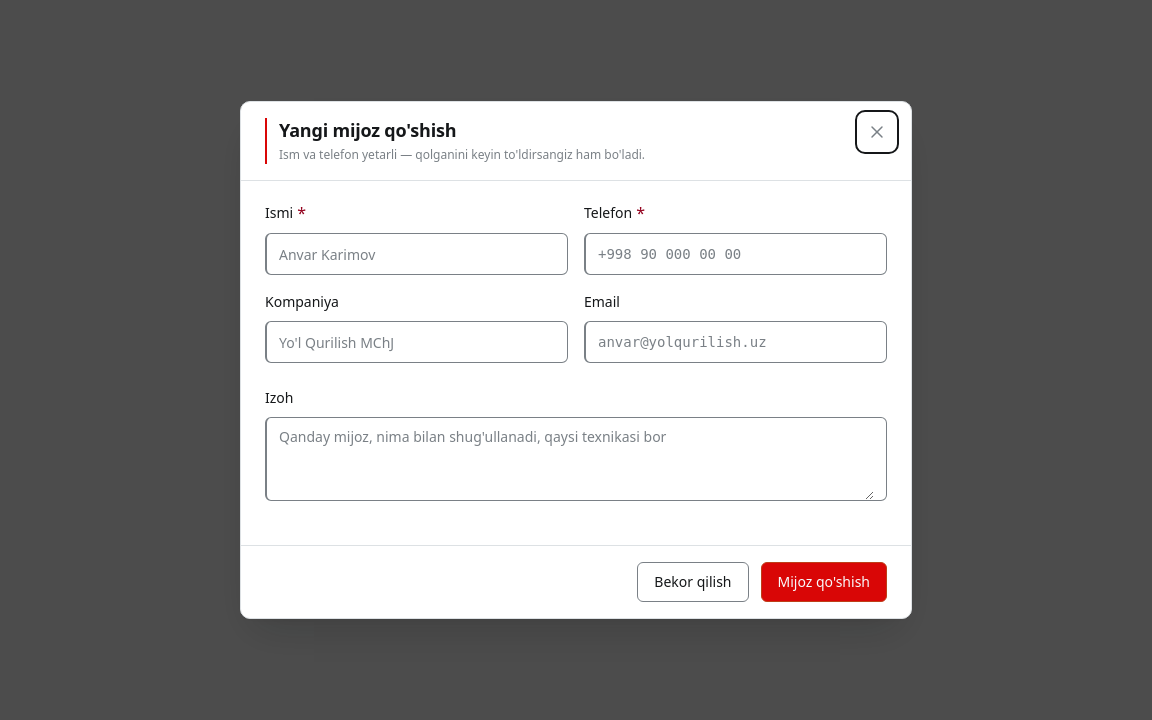
it: CustomerCreateForm › says so when the request never lands
Step 1. Type "Anvar" into the field labelled "Ismi" → (417, 254), box [279, 234, 555, 274]
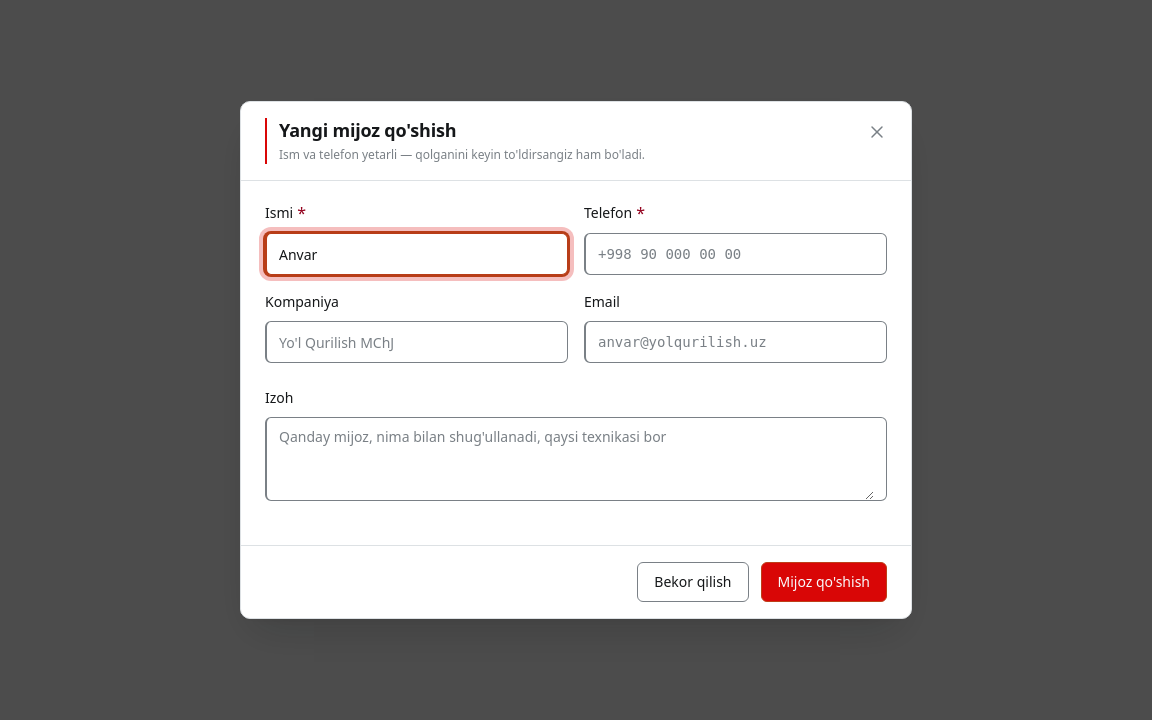
Step 2. Type "+998901234567" into the field labelled "Telefon" → (736, 254), box [598, 234, 874, 274]
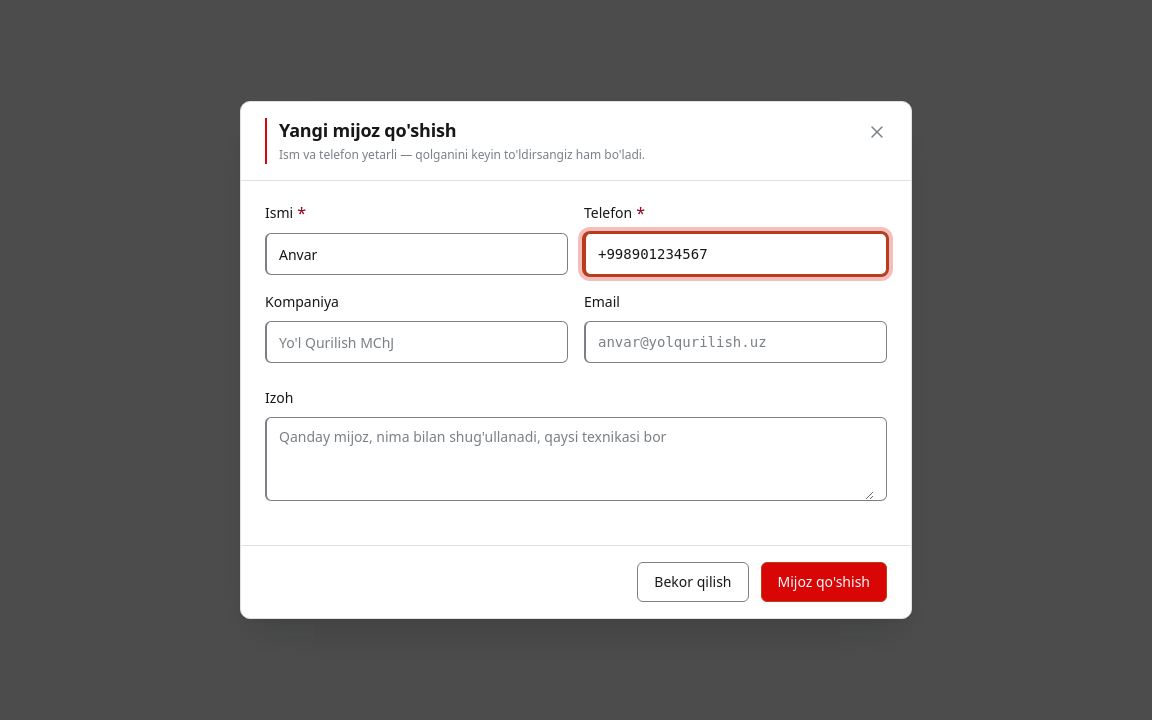
Step 3. Click the button "Mijoz qo'shish" → click(824, 582), box [760, 562, 887, 602]
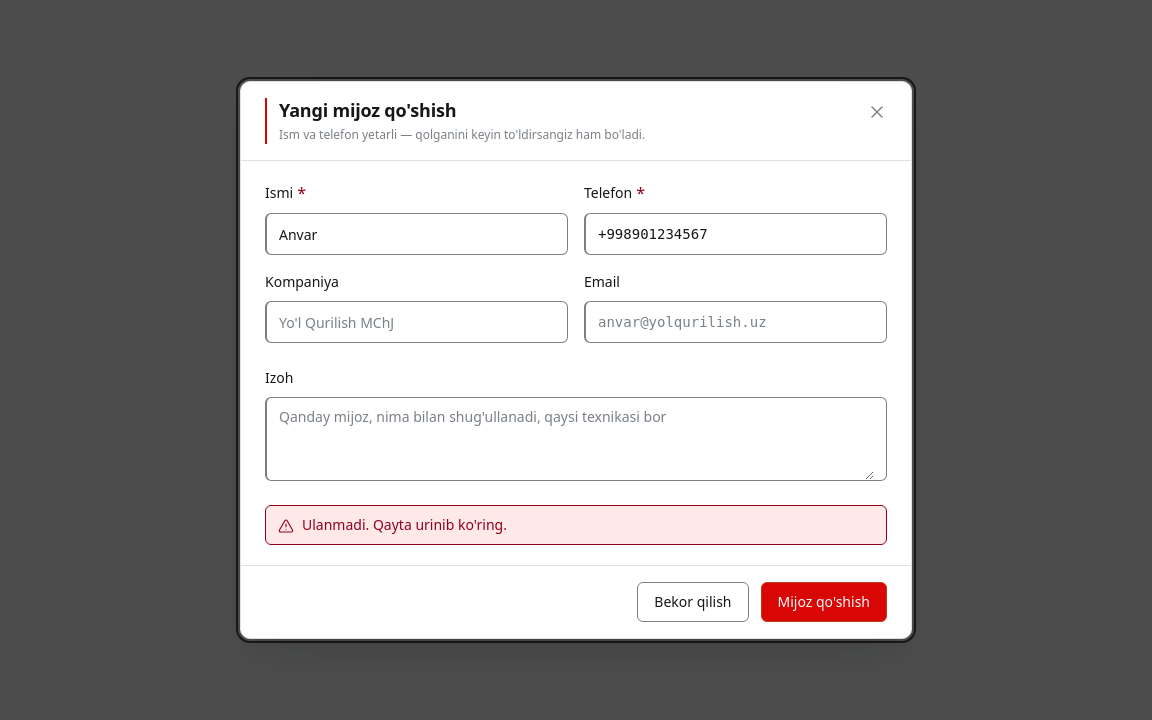
Now the text "Ulanmadi. Qayta urinib ko'ring." is shown, box [302, 514, 507, 536]
